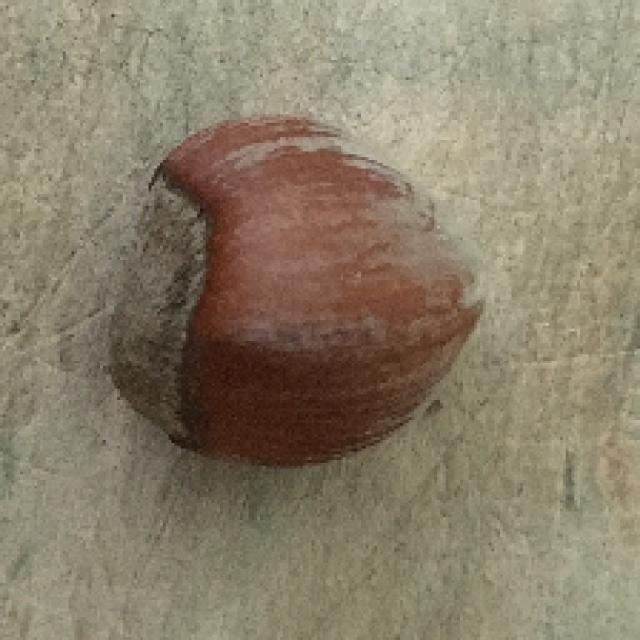qualityHazelnut: (108, 117, 487, 469)
